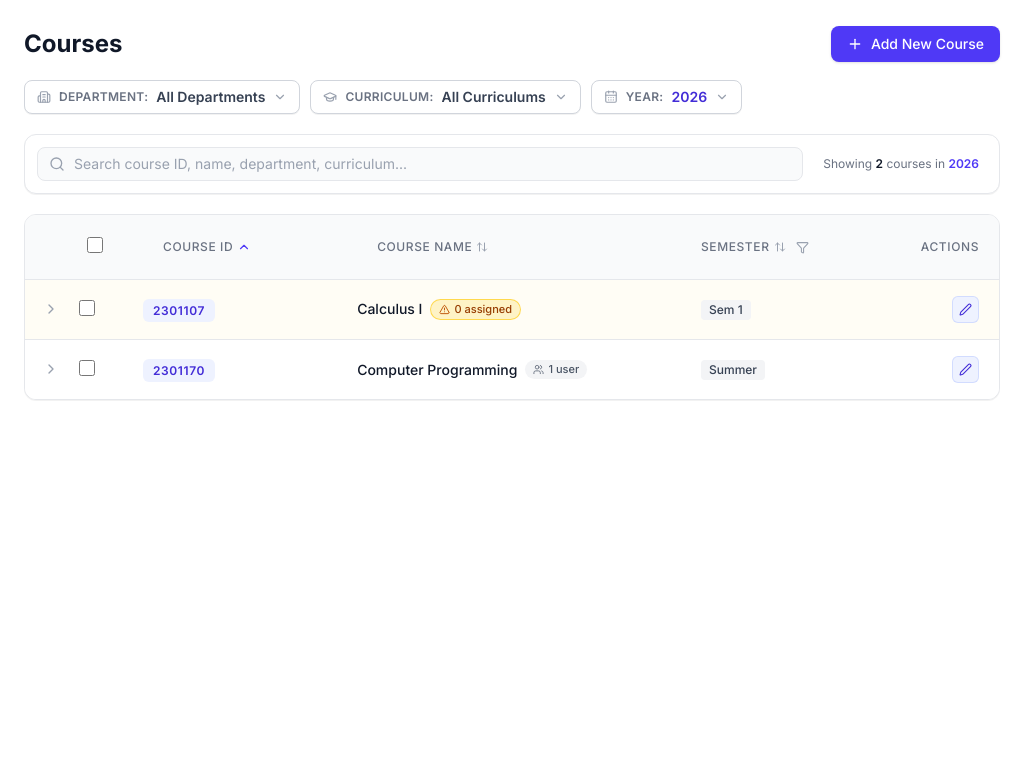
Test case: CoursesPage › expands an offering to show access, with default entries read-only
Expected: the text "Computer Programming" is shown, [357,360,517,380]
Click the button named "Expand assigned users of 2301170".
click(51, 368)  # box [39,356,63,380]
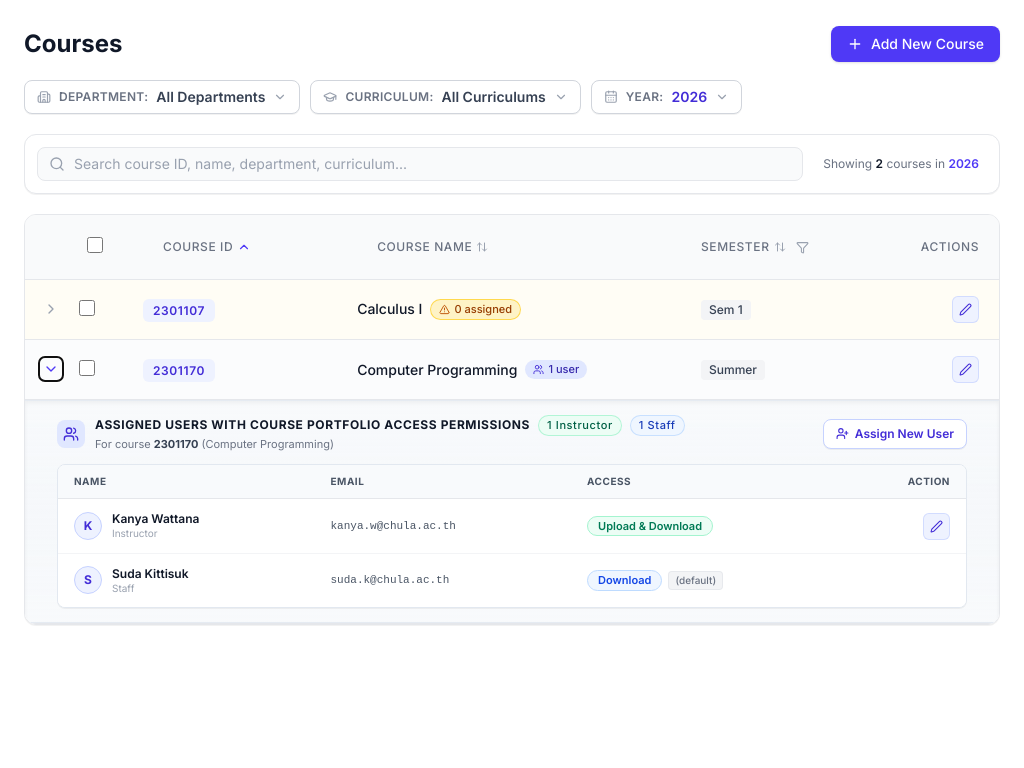
Expected: the text "Kanya Wattana" is shown, [112,512,199,528]
Expected: the text "Upload & Download" is shown, [587,516,713,536]
Expected: the button named "Edit access of Kanya" is shown, [923,513,950,540]
